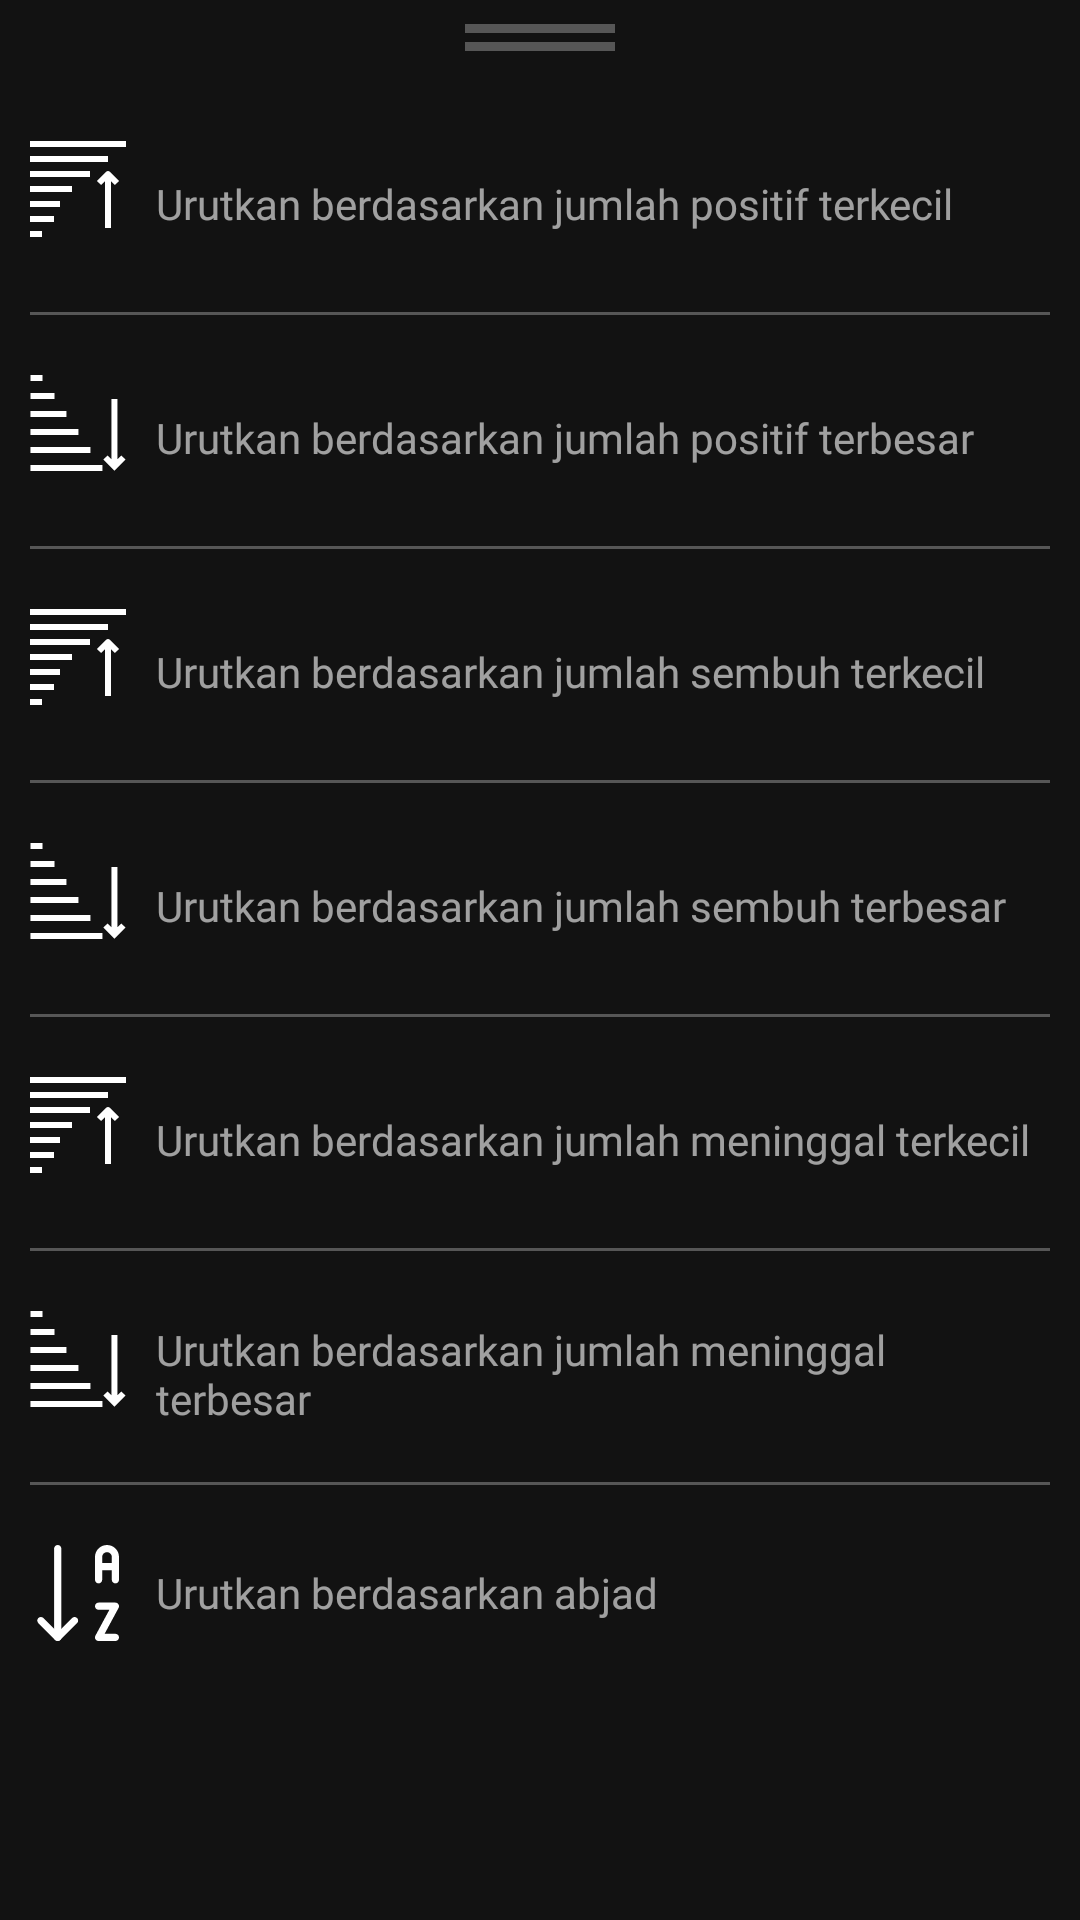

Icons on this 1080px×1920px Android screen, each with its box as (x1, y1, x2, y2):
sort abjad: (37, 1545, 119, 1641)
sort asc: (30, 141, 126, 237), (30, 609, 126, 705), (30, 1077, 126, 1173)
sort desc: (30, 375, 126, 471), (30, 843, 126, 939), (30, 1311, 126, 1407)
